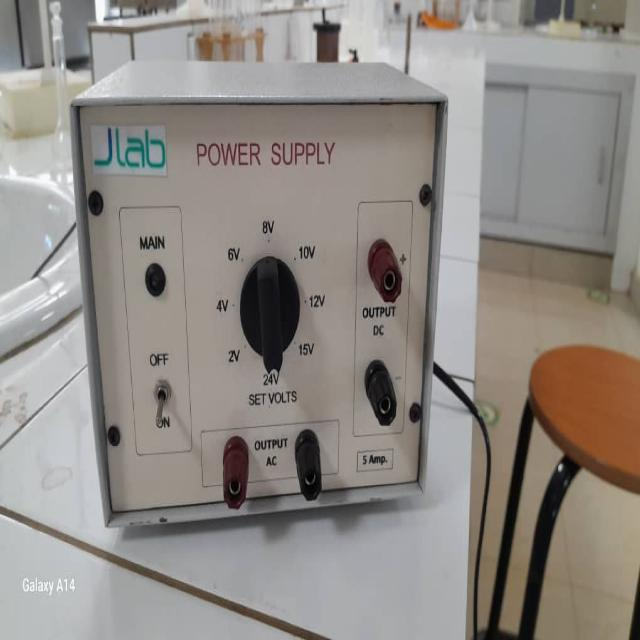Power Supply: (63, 72, 452, 518)
